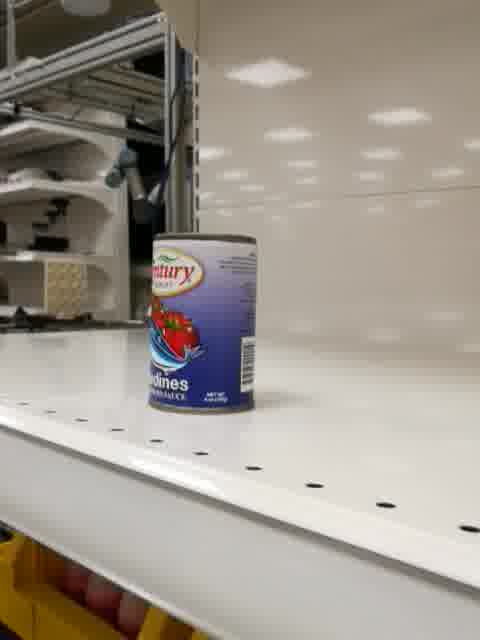sardine: (145, 230, 260, 419)
